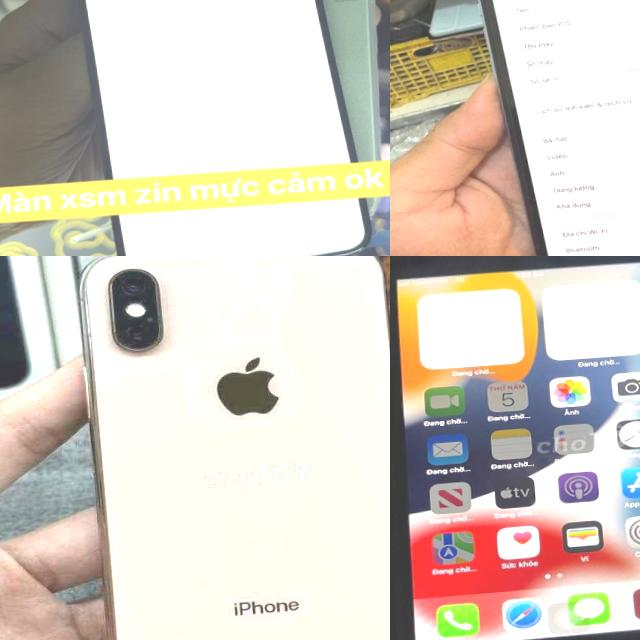gen_7_8: (390, 256, 640, 640)
gen_x_xs: (42, 256, 390, 640), (60, 0, 375, 256), (458, 0, 640, 256)
